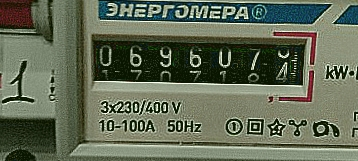0: (96, 42, 113, 66), (216, 43, 231, 68)
4: (272, 59, 289, 83)
6: (186, 43, 203, 68), (126, 43, 143, 67)
7: (246, 45, 261, 72)
9: (156, 43, 172, 68)
screen: (76, 20, 320, 99)
